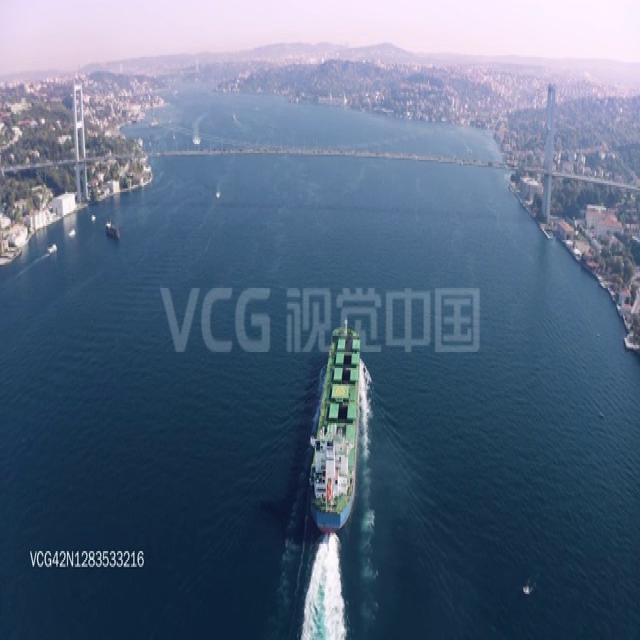cargoship: (310, 313, 367, 529)
